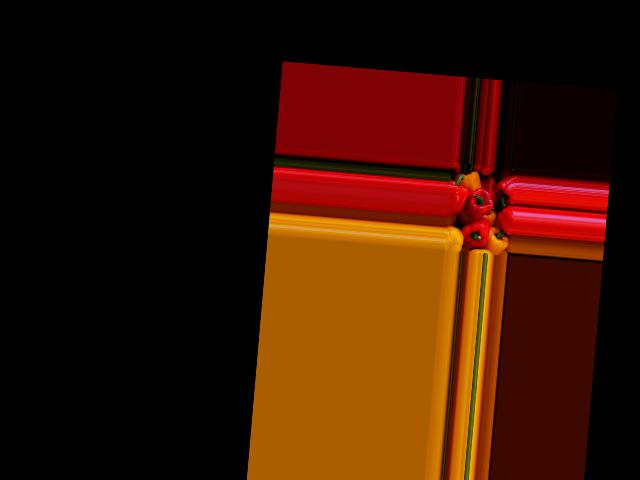bell_pepper: (483, 229, 507, 255)
